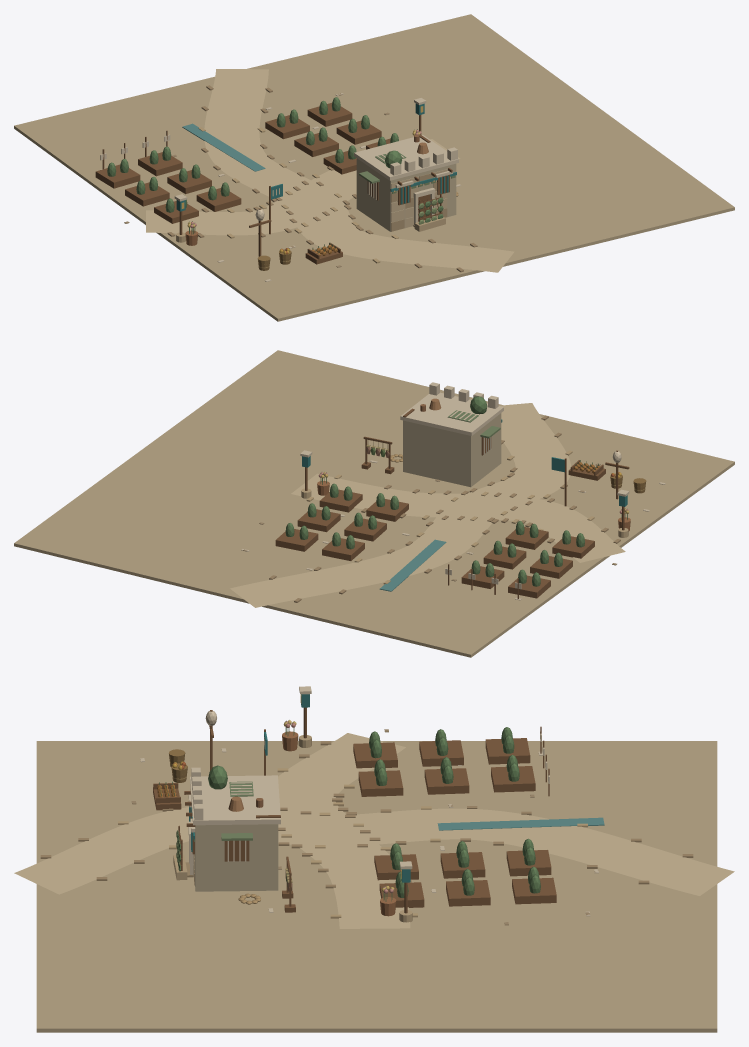
File: city-garden.glb
3 renders of one model, top to bottom at view 1: azimuth 30°, elevation 25°; view 2: azimuth 150°, elevation 25°; view 3: azimuth 270°, elevation 25°, orthographic. The views are drawn at different scales.
Visible parts, largest first — view 1: city-garden; view 2: city-garden; view 3: city-garden.
Part boxes in pixels (x1,y1,x2,y2): city-garden: [14, 14, 734, 321]; city-garden: [14, 350, 734, 657]; city-garden: [14, 686, 734, 1032].
Size of the model in its own units: 33.22 by 4.97 by 33.89.
